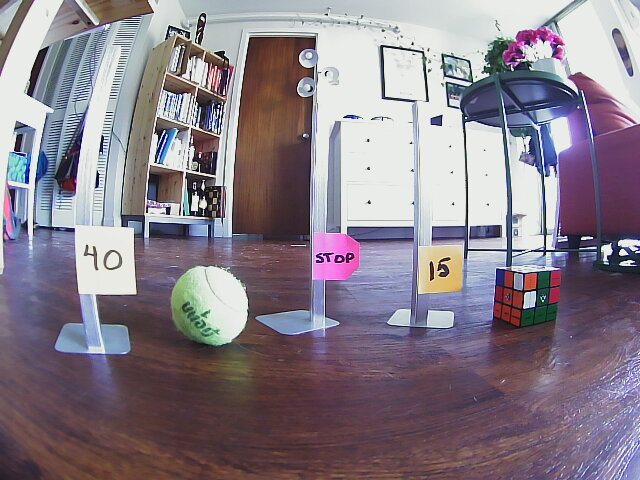15: (417, 248, 464, 293)
40: (75, 227, 137, 294)
ball: (170, 264, 248, 345)
cube: (491, 267, 561, 328)
stop: (314, 235, 359, 280)
